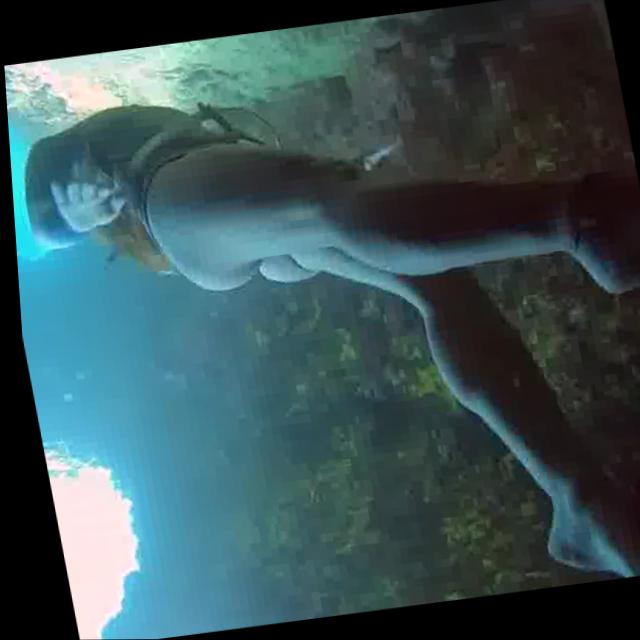human: (2, 36, 640, 640)
